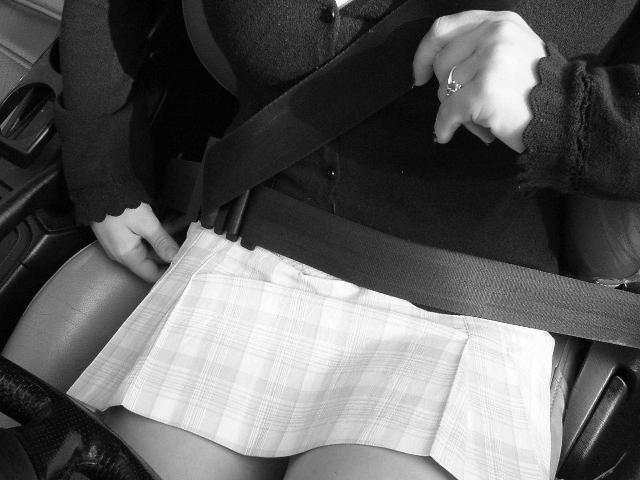Seatbelt: (178, 1, 640, 354)
